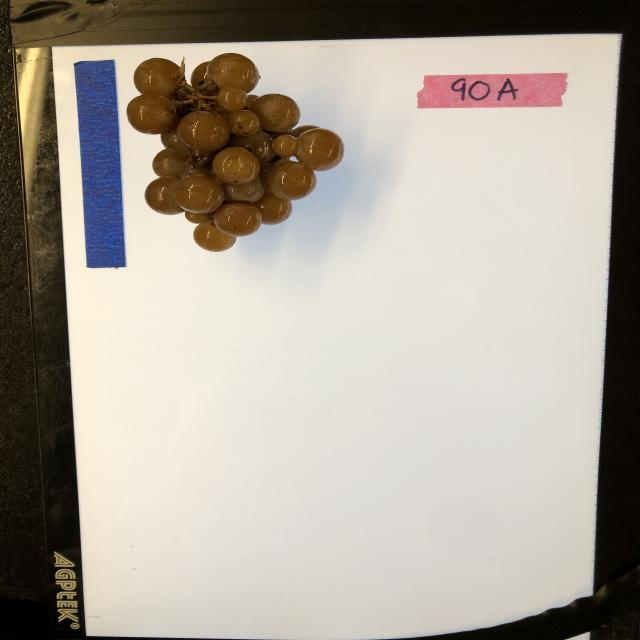grape_cluster: (127, 51, 345, 252)
index: (417, 71, 568, 108)
measure_label: (73, 58, 128, 270)
